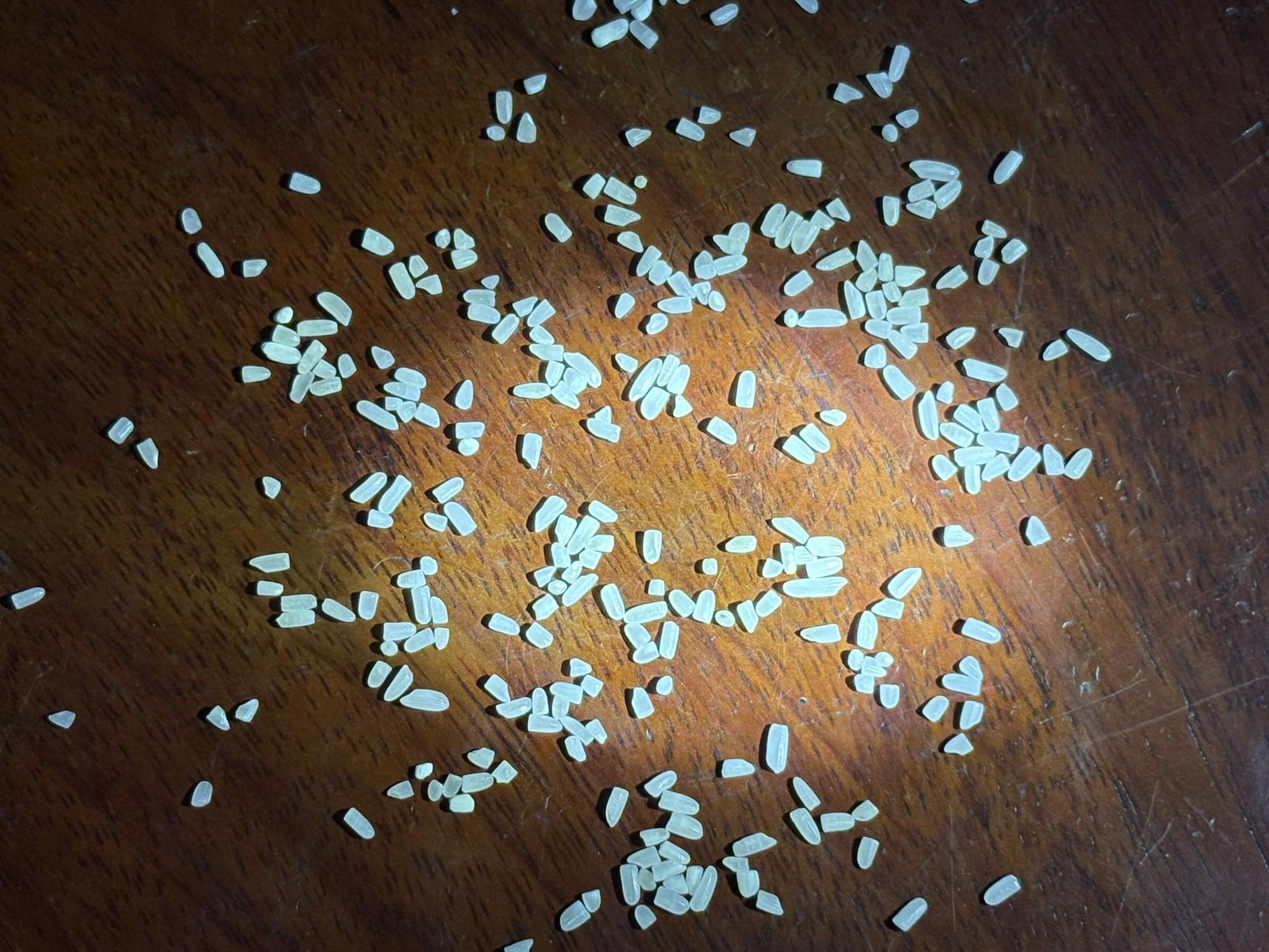Rice-th-y-nh: (782, 566, 848, 609), (1065, 322, 1112, 367), (758, 721, 796, 775), (908, 151, 960, 190), (400, 681, 450, 720), (355, 394, 399, 437), (562, 346, 605, 390), (626, 355, 664, 404), (797, 299, 848, 335), (911, 390, 946, 442), (687, 865, 723, 915), (962, 351, 1007, 390), (732, 826, 777, 865), (622, 593, 668, 631), (881, 361, 919, 405), (376, 473, 414, 517), (960, 611, 1002, 650), (529, 494, 568, 535), (561, 569, 599, 611), (565, 513, 601, 557), (976, 425, 1021, 460), (983, 870, 1022, 910), (665, 806, 705, 845), (891, 894, 929, 935), (885, 562, 923, 603), (658, 784, 700, 821), (788, 804, 824, 847), (1007, 443, 1043, 486), (600, 784, 633, 830), (442, 498, 479, 539), (941, 666, 983, 702), (427, 596, 454, 652), (315, 289, 354, 327), (614, 861, 645, 908), (653, 882, 691, 920), (261, 334, 301, 370), (349, 470, 389, 506), (800, 617, 842, 651), (637, 382, 671, 424), (382, 663, 416, 705), (953, 439, 996, 472), (851, 609, 884, 652), (248, 546, 292, 578), (816, 241, 855, 277), (804, 550, 845, 584), (597, 581, 630, 623), (838, 279, 869, 323), (386, 260, 419, 301), (805, 529, 846, 562), (359, 224, 395, 261), (772, 209, 805, 249), (295, 313, 339, 343), (295, 337, 328, 377), (590, 16, 630, 49), (769, 514, 810, 546), (730, 369, 761, 411), (883, 43, 914, 85), (939, 417, 975, 453), (643, 765, 678, 802), (495, 691, 533, 725), (432, 471, 466, 509), (603, 198, 642, 231), (951, 402, 987, 437), (654, 619, 684, 661), (585, 413, 621, 448), (559, 713, 595, 748), (602, 174, 639, 208), (973, 395, 1005, 434), (407, 583, 436, 626), (885, 326, 919, 362), (486, 608, 522, 642), (781, 433, 818, 466), (757, 201, 789, 239), (788, 219, 820, 257), (786, 152, 824, 184), (276, 604, 316, 634), (278, 587, 318, 617), (343, 805, 376, 841), (1062, 446, 1095, 482), (992, 149, 1024, 186), (1037, 442, 1069, 479), (195, 240, 226, 278), (512, 376, 551, 406), (517, 431, 547, 470), (382, 377, 422, 406), (781, 266, 814, 301), (932, 176, 964, 212), (791, 775, 822, 812), (956, 697, 987, 734), (381, 615, 418, 646), (689, 587, 719, 625), (320, 596, 358, 626), (798, 421, 832, 454), (481, 672, 515, 705), (712, 249, 748, 280), (490, 311, 521, 347), (712, 229, 748, 260), (524, 618, 555, 654), (1022, 513, 1053, 549), (528, 339, 566, 368), (637, 527, 666, 565), (721, 753, 755, 785), (666, 269, 698, 303), (871, 593, 905, 625), (621, 618, 653, 652), (753, 885, 785, 919), (920, 691, 951, 726), (549, 677, 585, 707), (981, 450, 1011, 486), (288, 368, 317, 405), (628, 685, 657, 722), (526, 710, 563, 739), (893, 259, 926, 291), (542, 211, 574, 244), (403, 625, 436, 657), (941, 522, 974, 554), (945, 321, 977, 354), (587, 495, 619, 528), (820, 806, 854, 837), (627, 842, 661, 873), (557, 898, 588, 932), (530, 589, 560, 624), (667, 585, 697, 620), (664, 363, 694, 398), (733, 598, 762, 634), (551, 512, 580, 548), (657, 291, 694, 319), (885, 301, 922, 329), (649, 857, 686, 885), (490, 89, 518, 126), (628, 18, 659, 51), (550, 379, 581, 412), (705, 415, 738, 446), (900, 318, 933, 349), (754, 587, 784, 621), (898, 283, 932, 313), (935, 262, 969, 292), (724, 529, 758, 559), (865, 67, 895, 101), (634, 244, 663, 279), (690, 249, 719, 284), (854, 835, 882, 871), (466, 301, 502, 329), (774, 539, 801, 576), (461, 768, 494, 798), (929, 451, 959, 484), (309, 372, 342, 402), (658, 839, 692, 868), (354, 588, 383, 622), (852, 239, 881, 273), (993, 380, 1021, 415), (463, 282, 498, 310), (393, 364, 428, 392), (655, 352, 682, 388), (525, 298, 556, 329), (630, 637, 660, 669), (905, 195, 938, 224), (735, 867, 764, 900), (862, 288, 890, 322), (451, 378, 479, 412), (878, 193, 905, 228), (906, 175, 936, 206), (832, 78, 863, 108), (271, 321, 302, 351), (490, 756, 520, 787), (638, 822, 670, 851), (413, 399, 442, 431), (957, 653, 986, 685), (862, 340, 890, 373), (365, 658, 393, 691), (561, 365, 589, 398), (513, 112, 540, 146), (850, 796, 880, 826), (466, 744, 497, 773), (999, 236, 1028, 267), (721, 851, 753, 879), (808, 206, 837, 236), (395, 566, 426, 594), (369, 342, 397, 373), (632, 901, 659, 933), (674, 115, 706, 142), (943, 731, 975, 758), (10, 586, 46, 610), (454, 417, 487, 443), (365, 505, 394, 534), (449, 244, 478, 273), (863, 314, 893, 342), (415, 270, 445, 298), (876, 681, 903, 712), (647, 257, 674, 288), (189, 778, 216, 809), (585, 531, 616, 558), (178, 205, 205, 236), (547, 540, 573, 572), (135, 437, 161, 469), (681, 863, 706, 896), (448, 789, 477, 817), (728, 123, 757, 151), (426, 595, 453, 625), (240, 361, 271, 387), (611, 290, 637, 321), (960, 464, 985, 496), (288, 171, 321, 195), (568, 0, 601, 24), (853, 266, 880, 295), (824, 196, 853, 223), (1042, 336, 1069, 365), (819, 403, 848, 430), (726, 218, 753, 247), (581, 171, 607, 201), (976, 256, 1001, 287), (511, 292, 539, 319), (107, 416, 134, 444), (387, 776, 415, 803), (624, 123, 652, 150), (616, 229, 645, 255), (663, 871, 692, 897), (563, 734, 589, 763), (334, 351, 359, 381), (527, 686, 551, 717), (204, 705, 231, 732), (879, 278, 905, 306), (579, 671, 605, 699), (644, 310, 670, 338), (311, 356, 339, 382), (421, 509, 449, 535), (561, 558, 586, 587), (670, 392, 695, 421), (406, 251, 431, 280), (543, 359, 567, 389), (709, 2, 739, 26), (874, 252, 897, 283), (759, 554, 785, 581), (999, 323, 1025, 350), (577, 546, 604, 572), (894, 105, 921, 131), (522, 71, 548, 98), (240, 254, 267, 280), (393, 398, 419, 425), (585, 718, 610, 746), (528, 323, 556, 348), (852, 670, 877, 698), (580, 886, 604, 915), (255, 577, 284, 601), (567, 655, 593, 681), (614, 350, 640, 376), (696, 102, 722, 128), (234, 698, 260, 724), (532, 562, 557, 589), (429, 624, 454, 651), (972, 233, 996, 261), (980, 218, 1008, 242), (441, 772, 464, 801), (792, 543, 817, 569), (548, 694, 572, 721), (500, 934, 535, 952), (47, 708, 77, 729), (452, 227, 477, 252), (456, 434, 481, 459), (635, 867, 659, 893), (260, 474, 284, 500), (935, 379, 958, 406), (690, 279, 713, 306), (713, 606, 737, 631), (631, 0, 656, 24), (593, 403, 616, 429), (417, 553, 440, 578), (654, 673, 676, 699), (610, 0, 648, 15), (859, 661, 886, 682), (425, 778, 446, 804), (706, 289, 727, 314), (484, 122, 507, 144), (273, 304, 295, 327), (845, 647, 865, 672), (645, 577, 668, 598), (880, 121, 901, 144), (413, 760, 434, 783), (873, 649, 895, 670), (700, 556, 721, 578), (481, 270, 502, 292), (433, 227, 453, 250), (547, 576, 568, 597), (379, 638, 399, 659), (782, 306, 800, 329), (793, 0, 820, 15), (633, 172, 649, 191), (650, 0, 685, 7), (670, 0, 697, 7)
